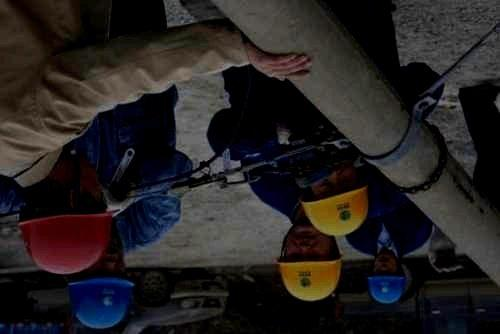helmet: (15, 152, 121, 274), (67, 236, 137, 329), (273, 220, 344, 301), (299, 163, 369, 236), (367, 249, 408, 304)
